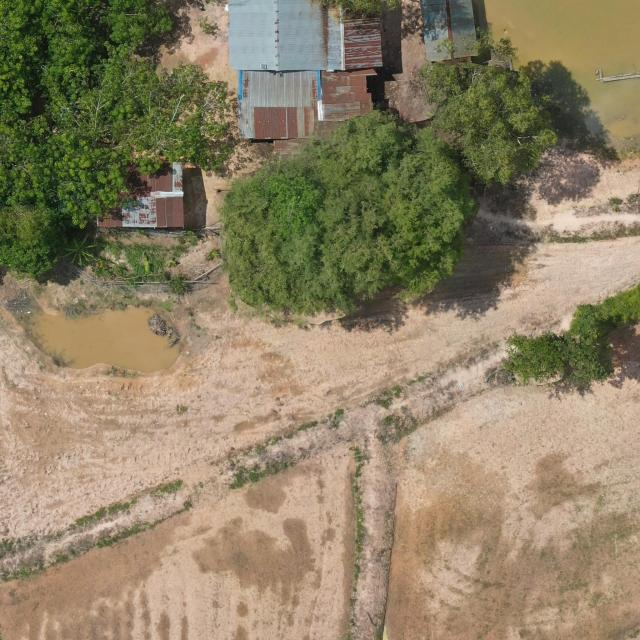Tree: (221, 106, 484, 319), (0, 0, 175, 283), (42, 58, 250, 180), (408, 27, 560, 188), (502, 300, 619, 398), (62, 232, 99, 266)
